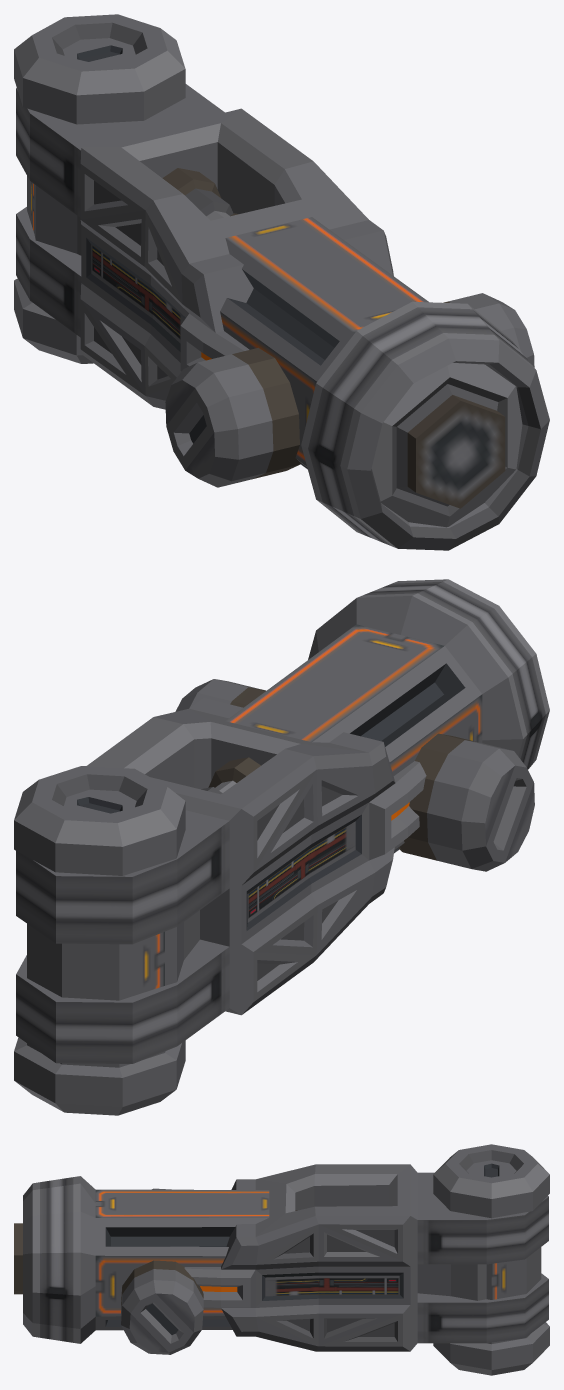
Rendered from SM_Mech_Forearm_01_Frame_01.fbx.
The picture shows the model from 3 angles, top to bottom: view 1: azimuth 30°, elevation 25°; view 2: azimuth 150°, elevation 25°; view 3: azimuth 270°, elevation 25°; orthographic projection. The views are drawn at different scales.
Parts seen in each view (by area): view 1: SM_Mech_Forearm_01_Frame_01; view 2: SM_Mech_Forearm_01_Frame_01; view 3: SM_Mech_Forearm_01_Frame_01.
Part boxes in pixels (x1,y1,x2,y2): SM_Mech_Forearm_01_Frame_01: (14,14,549,550); SM_Mech_Forearm_01_Frame_01: (14,579,549,1115); SM_Mech_Forearm_01_Frame_01: (14,1144,549,1375).
Size of the model in its own units: 61.2 by 53.5 by 135.
